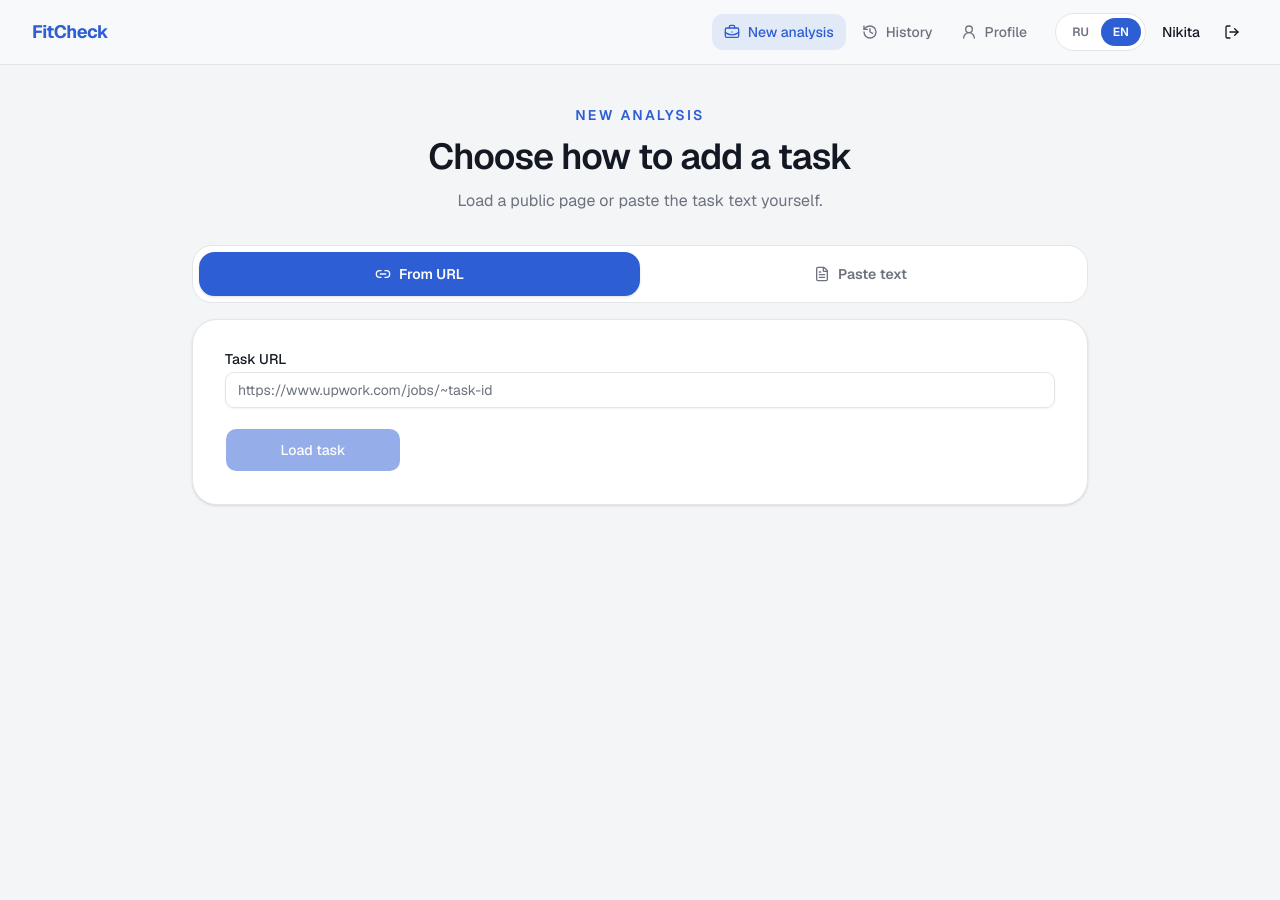
Scenario: FitCheck website authentication › deletes the current local account and all of its browser data
Click the button "Profile".
click(994, 32)  # box top-left (949, 14), bottom-right (1039, 50)
(page scrolled)
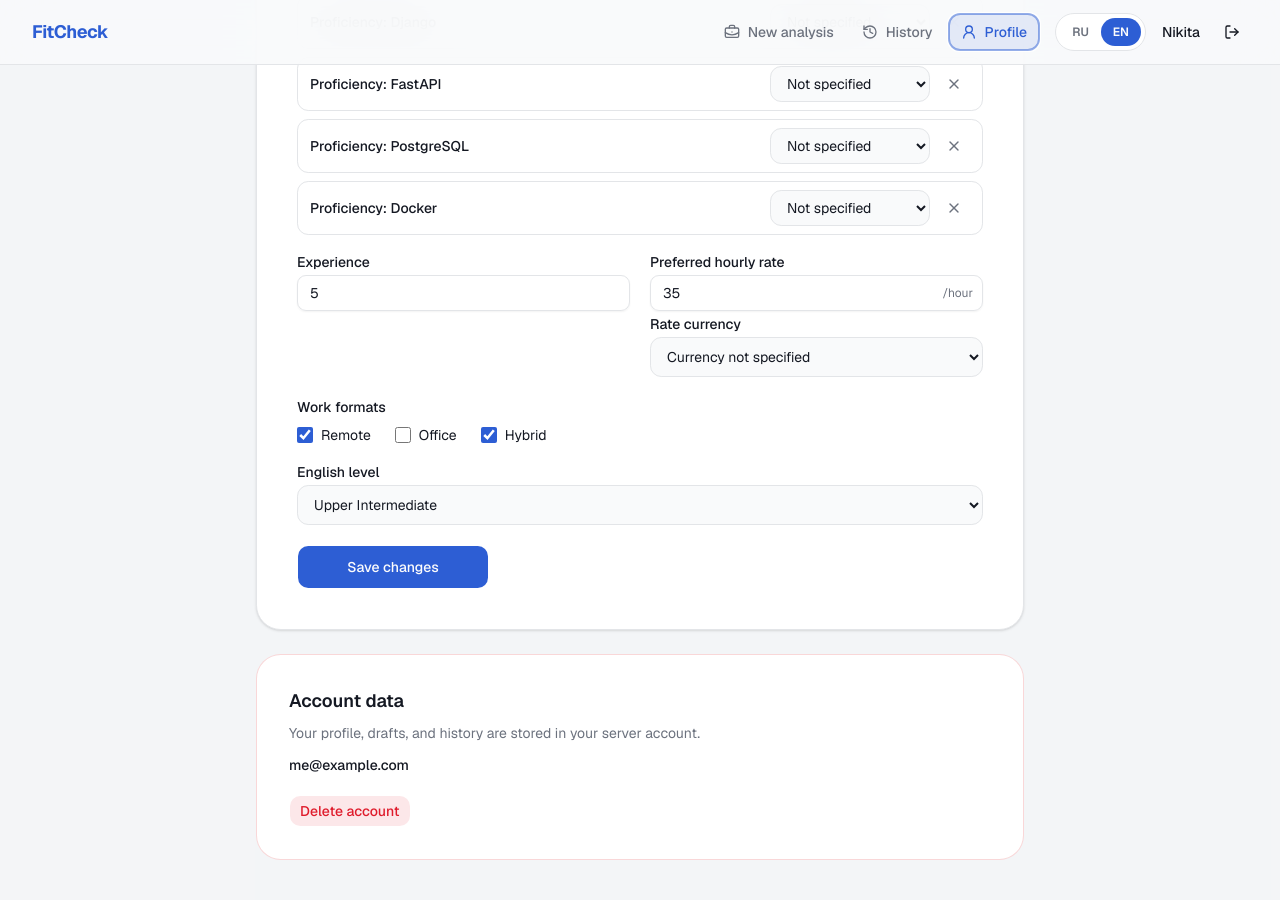
Click the button "Delete account".
click(350, 811)  # box top-left (289, 795), bottom-right (410, 827)
(page scrolled)
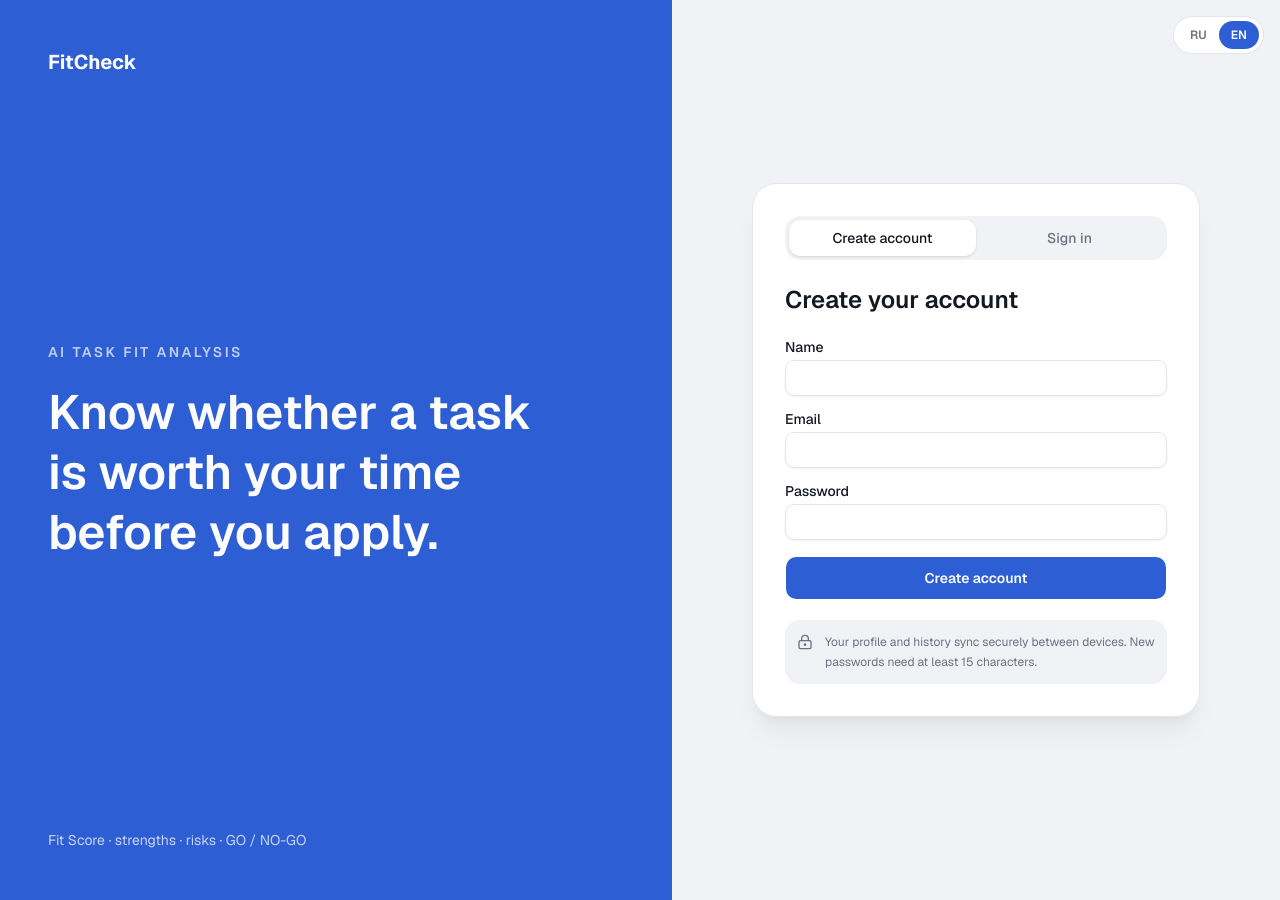
Result: the heading "Create your account" is shown at top-left (785, 284), bottom-right (1018, 315)
